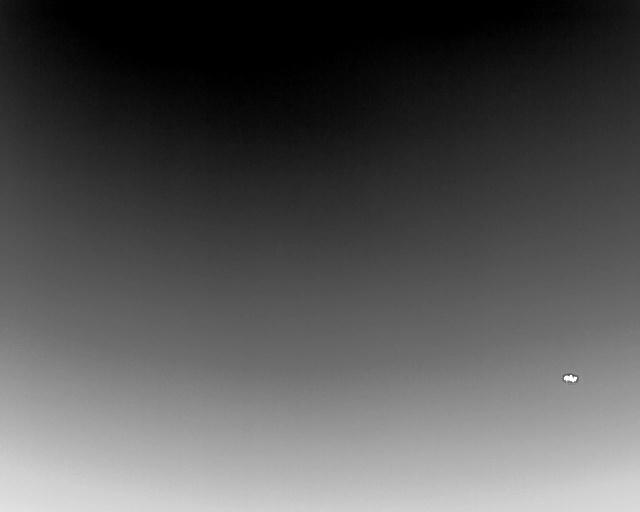fpv-drone: (562, 373, 579, 385)
